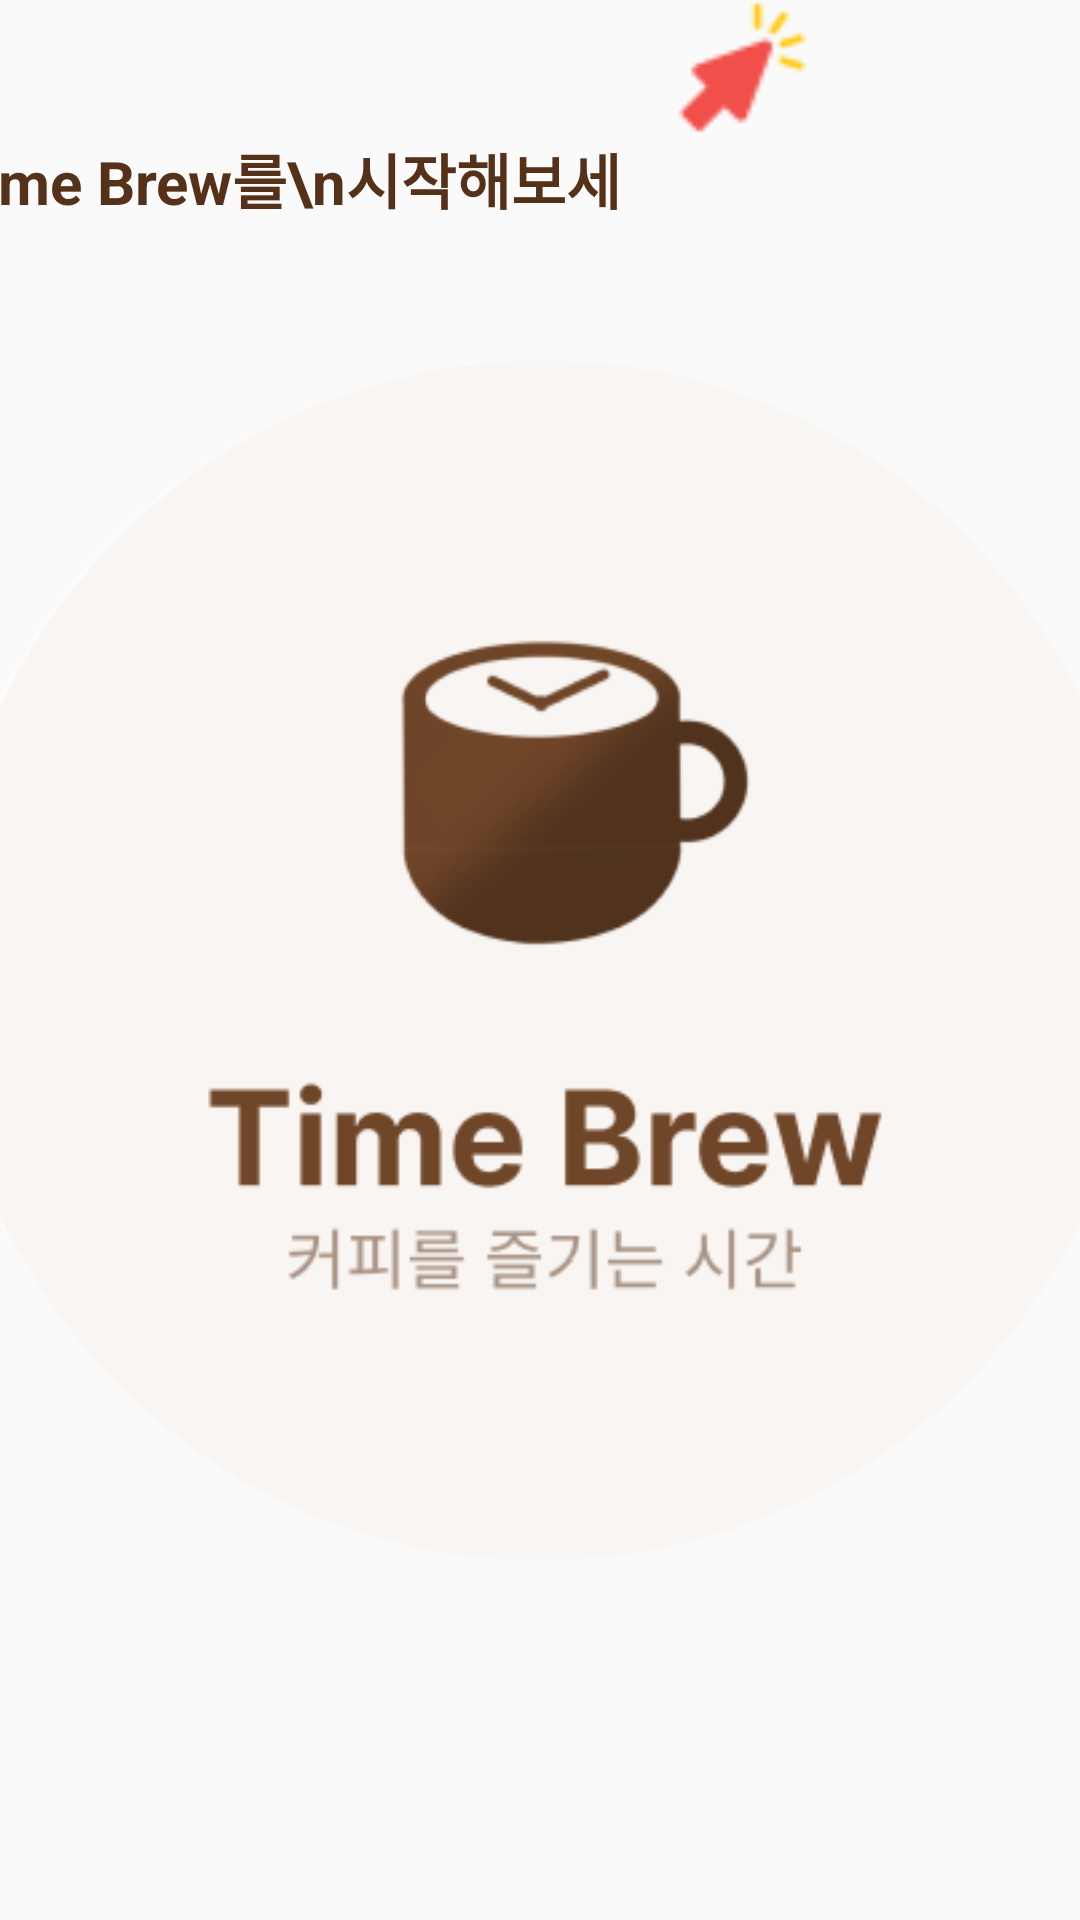

Where to tap for icons on this 1080w x 1920h app screen, as (x=x, y=y):
arrow: (x=743, y=67)
